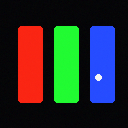0 point: (95, 74, 101, 80)
